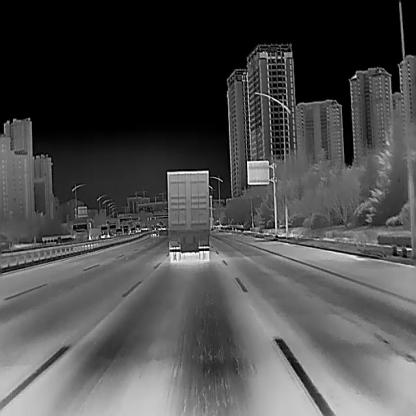car: (99, 225, 108, 237), (150, 226, 158, 236), (135, 224, 141, 232)
truck: (166, 170, 209, 261), (72, 221, 100, 242), (108, 218, 119, 237)
